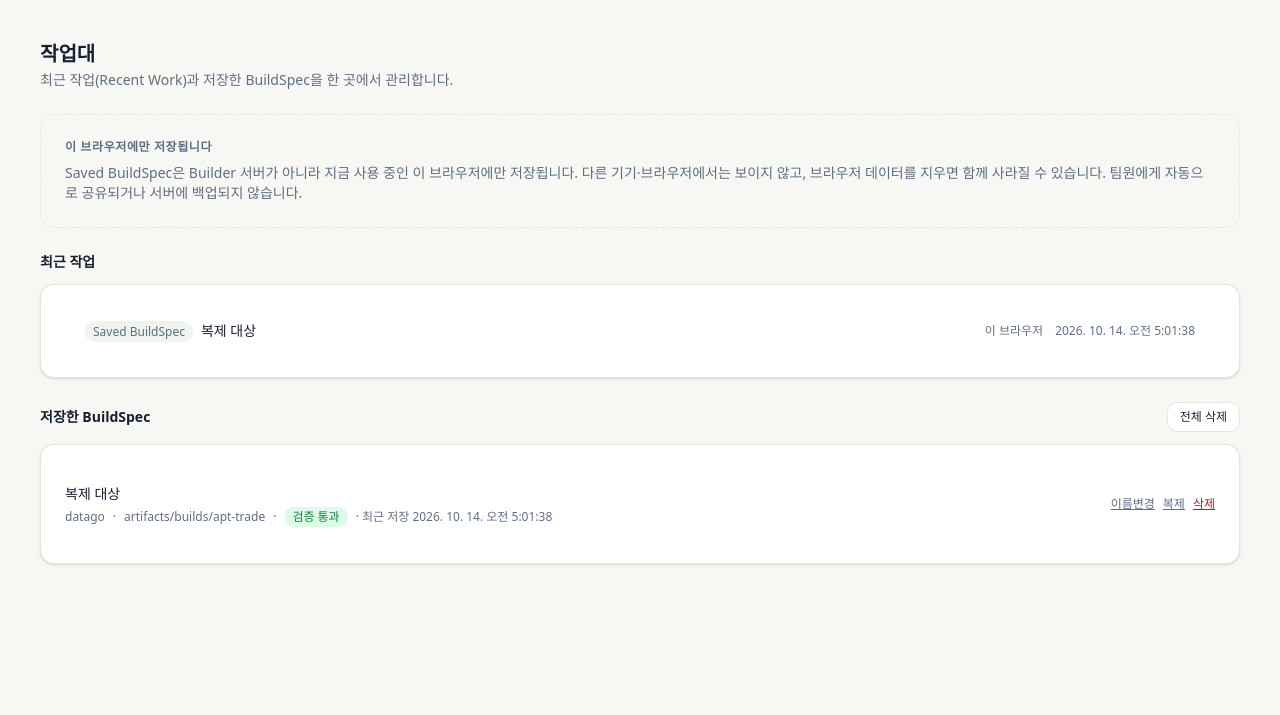
Saved BuildSpecs › duplicates a saved spec with a new id and (복제본) suffix
The image size is (1280, 715).
Click the button "복제" at [1174, 504], box [1163, 496, 1185, 512]
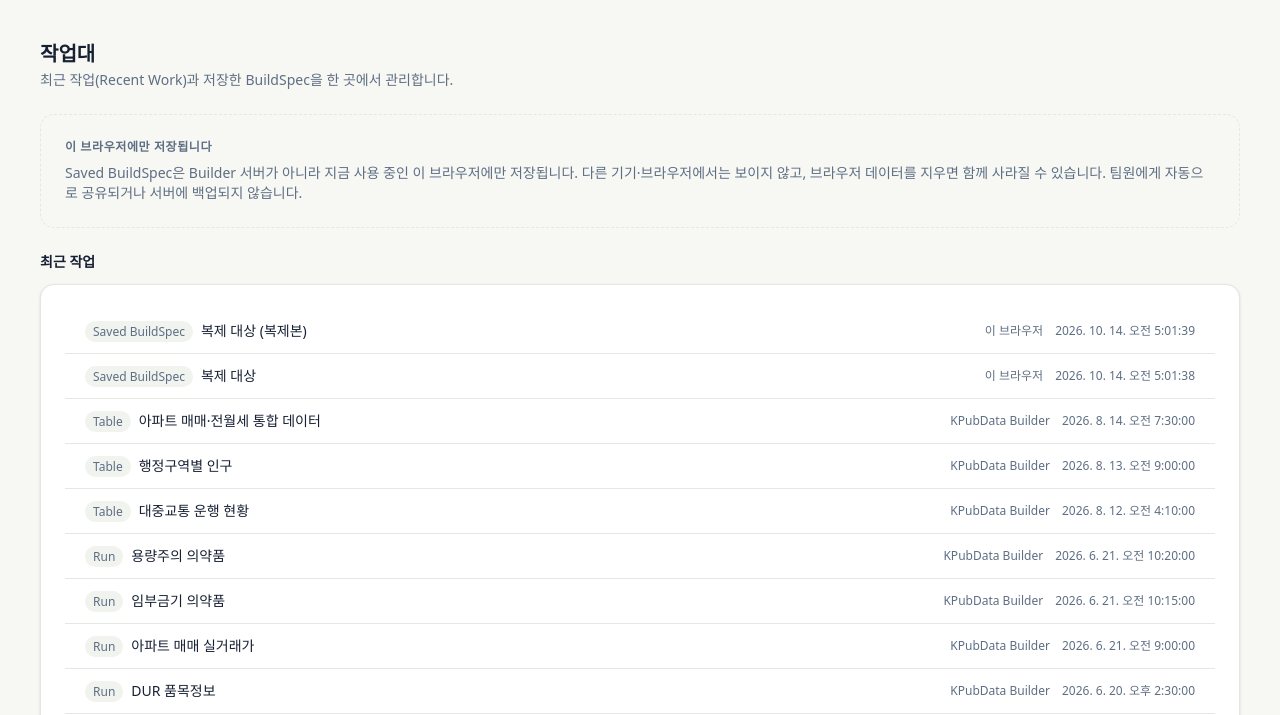
Result: the text "복제 대상 (복제본)" is shown at [201, 321, 307, 340]
